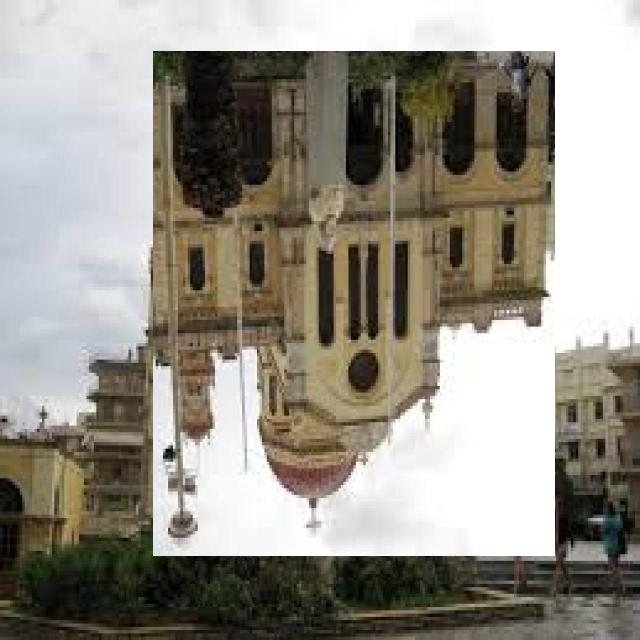Agios Minas: (154, 52, 556, 557)
